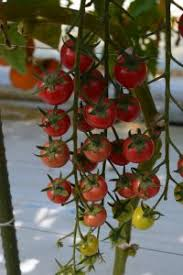tomato: (36, 71, 72, 106), (113, 57, 147, 89), (60, 40, 93, 72), (74, 69, 105, 100), (85, 98, 115, 130), (122, 135, 154, 163), (41, 142, 71, 171), (42, 109, 70, 137), (114, 94, 142, 121), (133, 173, 161, 200), (85, 135, 111, 162), (46, 178, 71, 205), (80, 174, 107, 199), (73, 146, 96, 171), (83, 203, 106, 227), (75, 105, 94, 133), (115, 173, 135, 197)
